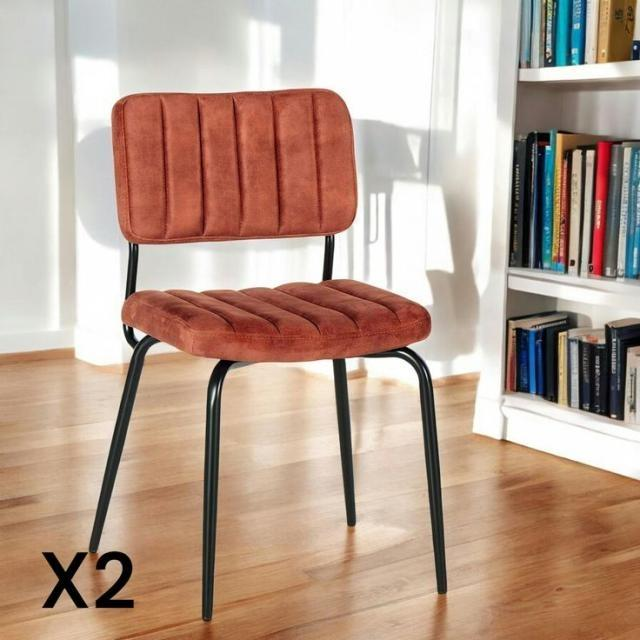obstacle: (87, 87, 449, 621), (472, 0, 639, 481)
